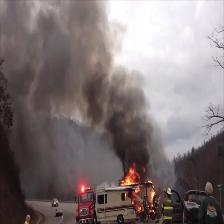fire: (120, 165, 142, 186)
smoke: (22, 32, 118, 89), (114, 102, 144, 158)
